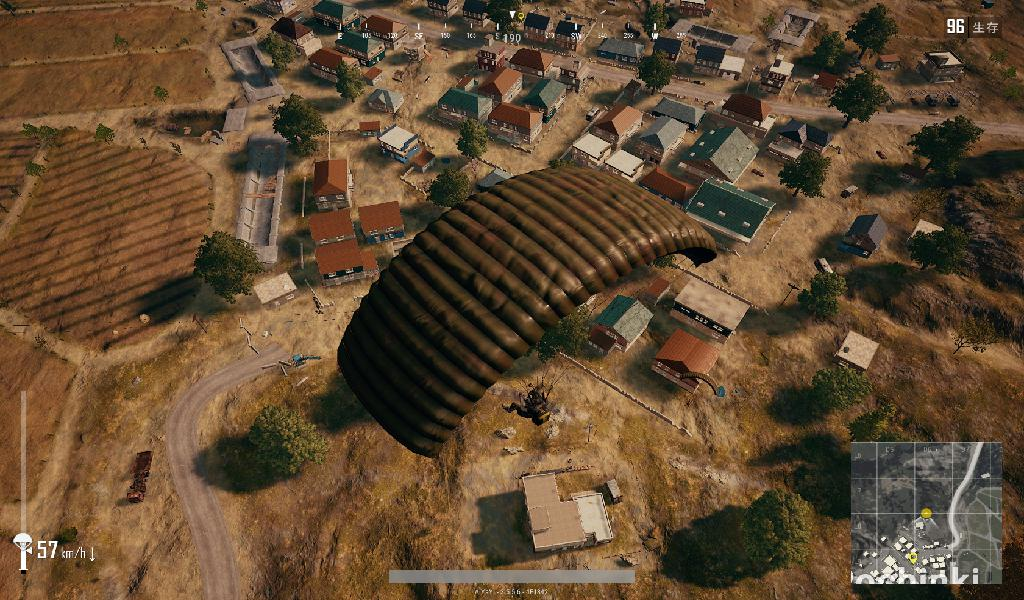Target Person: (502, 383, 555, 427)
